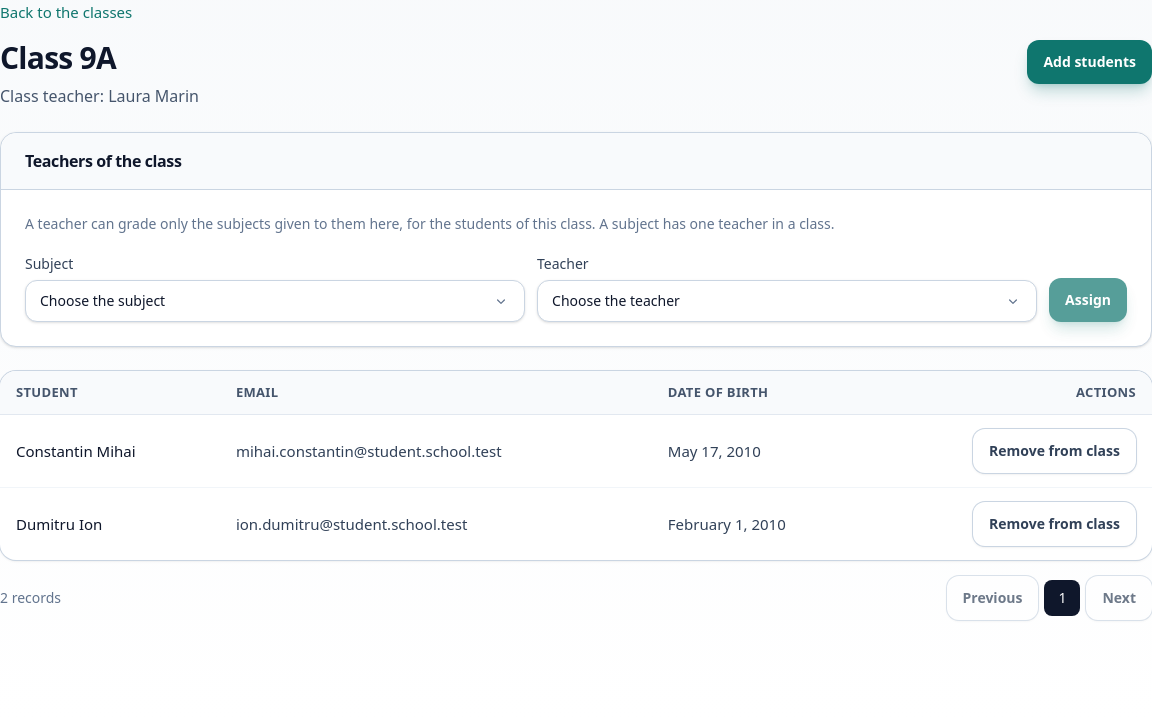
Test: AdminClassStudentsPage › removes a student from the class only after confirmation
This screenshot has width=1152, height=720.
Click the button "Remove from class" in the row of "Constantin Mihai": (1055, 451) [973, 429, 1136, 473]
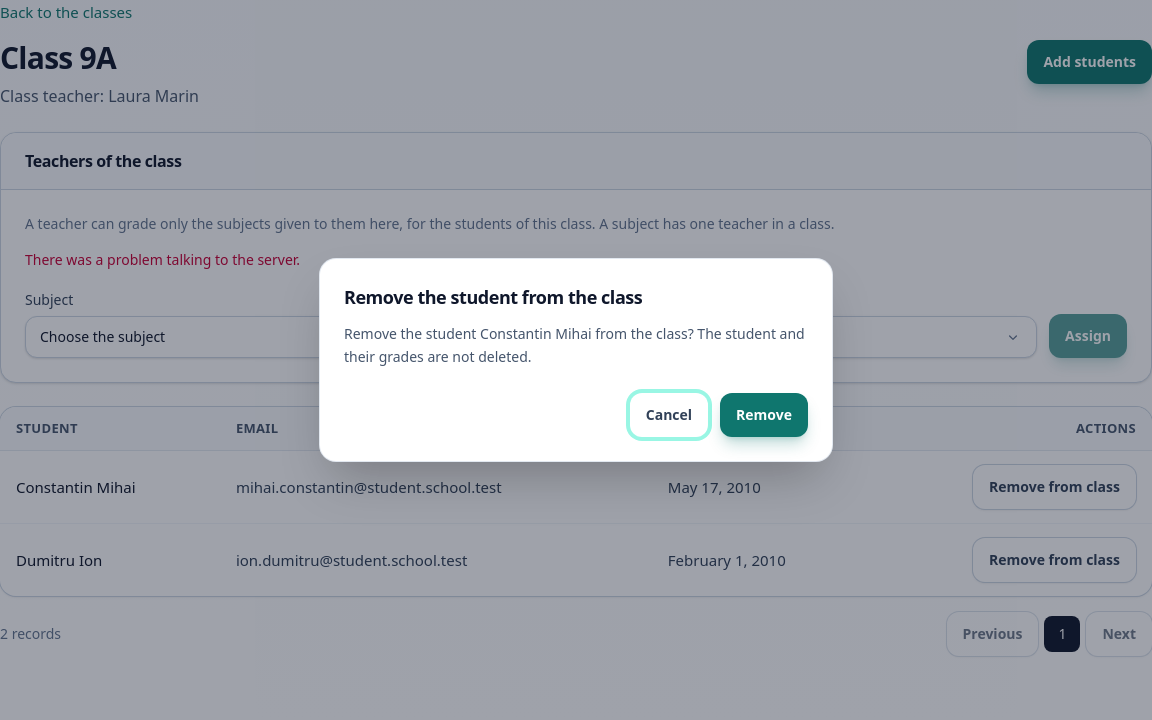
Result: the text "Constantin Mihai" is shown at [344, 324, 805, 366]
Click the button "Remove": (764, 415) [720, 393, 808, 437]
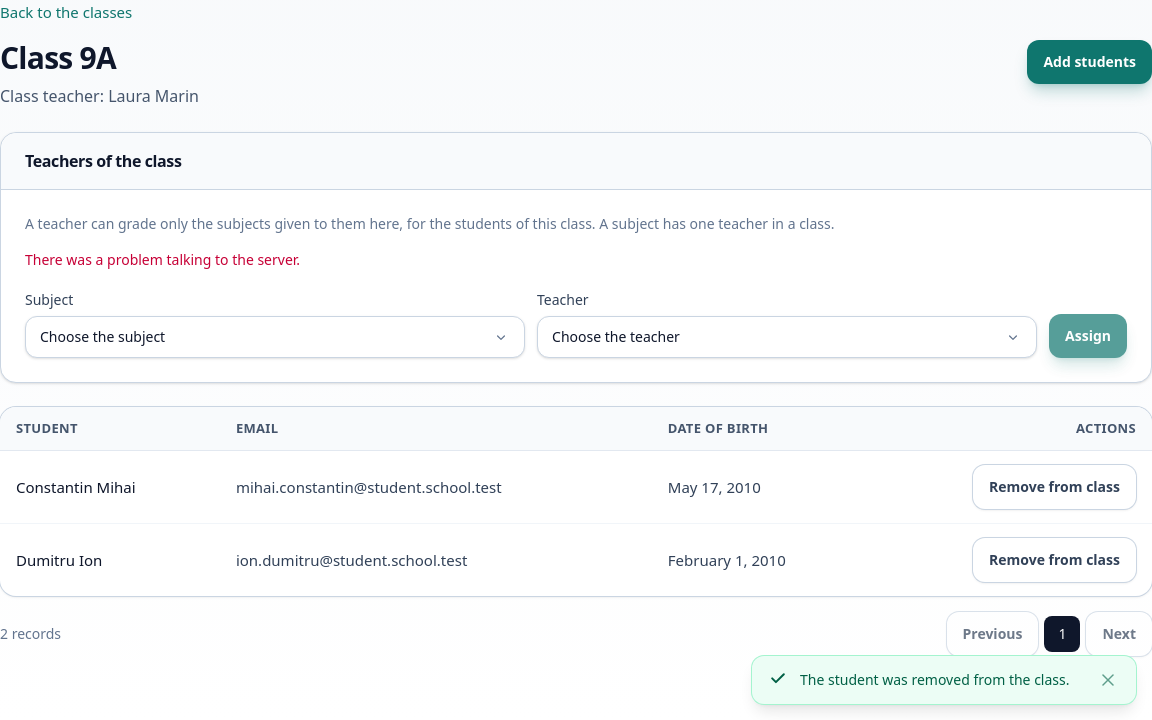
Result: the text "The student was removed from the class." is shown at [800, 668, 1084, 690]
